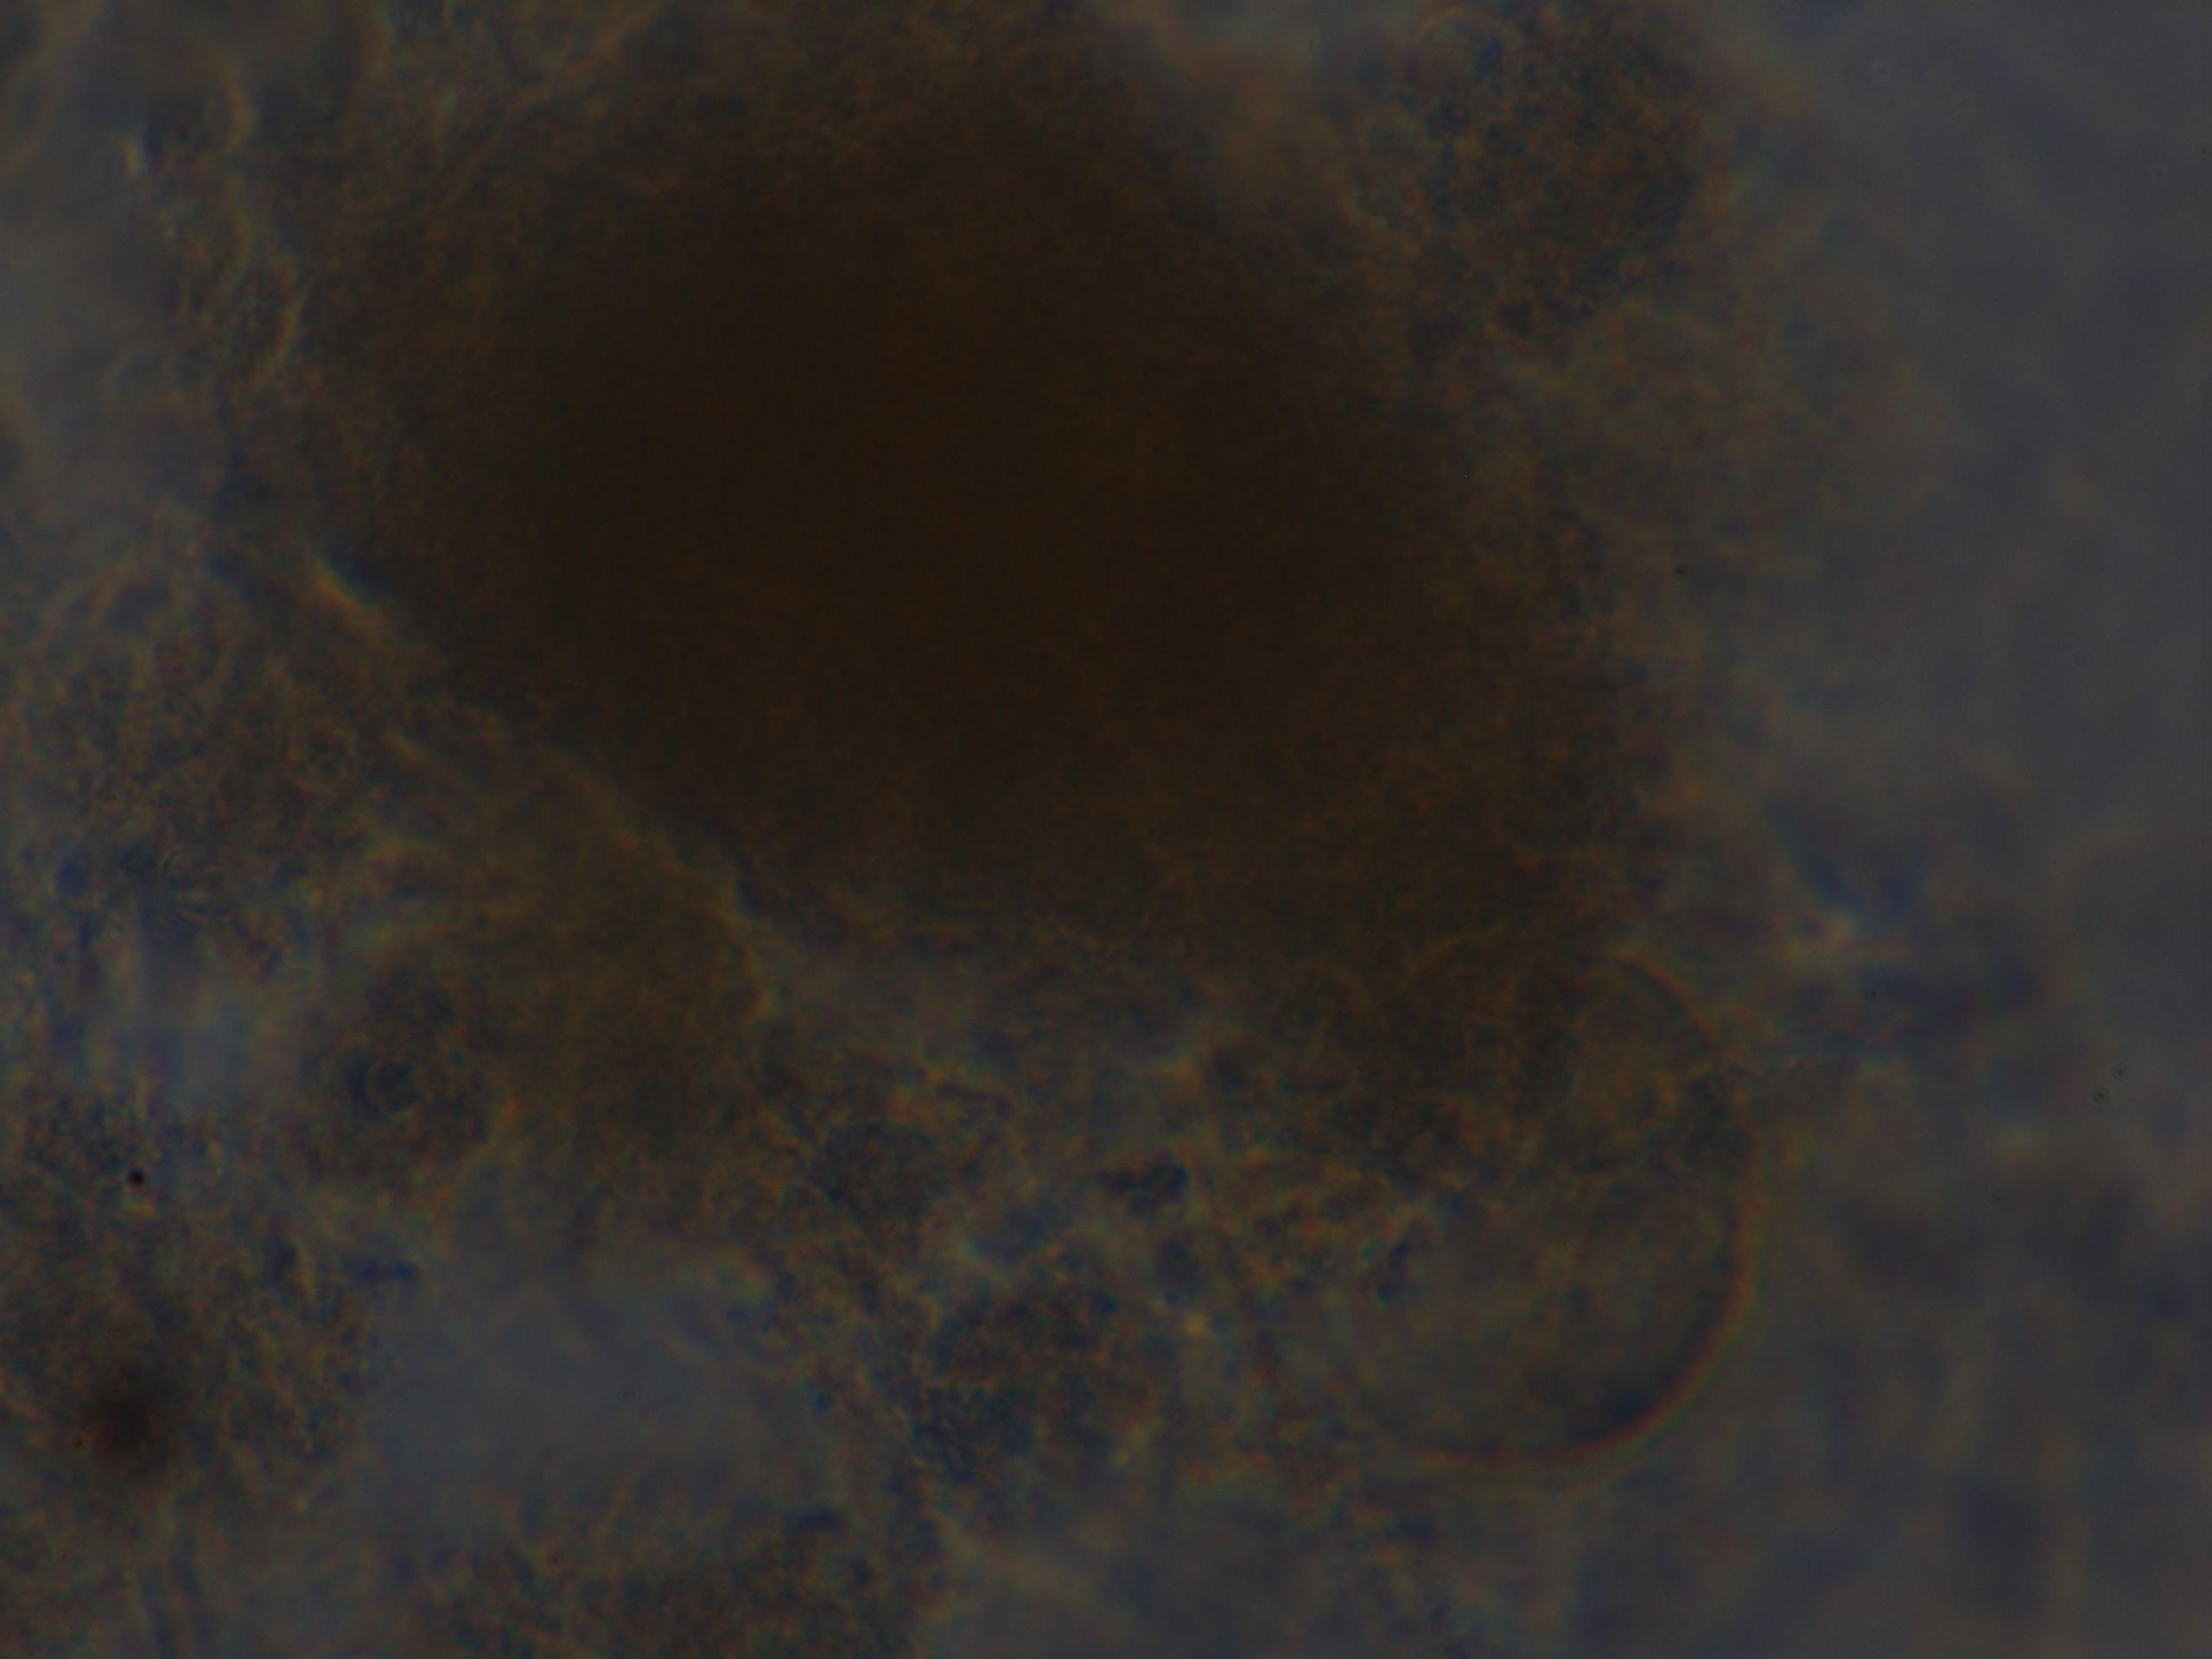spherical_floc: (253, 3, 1738, 1122)
